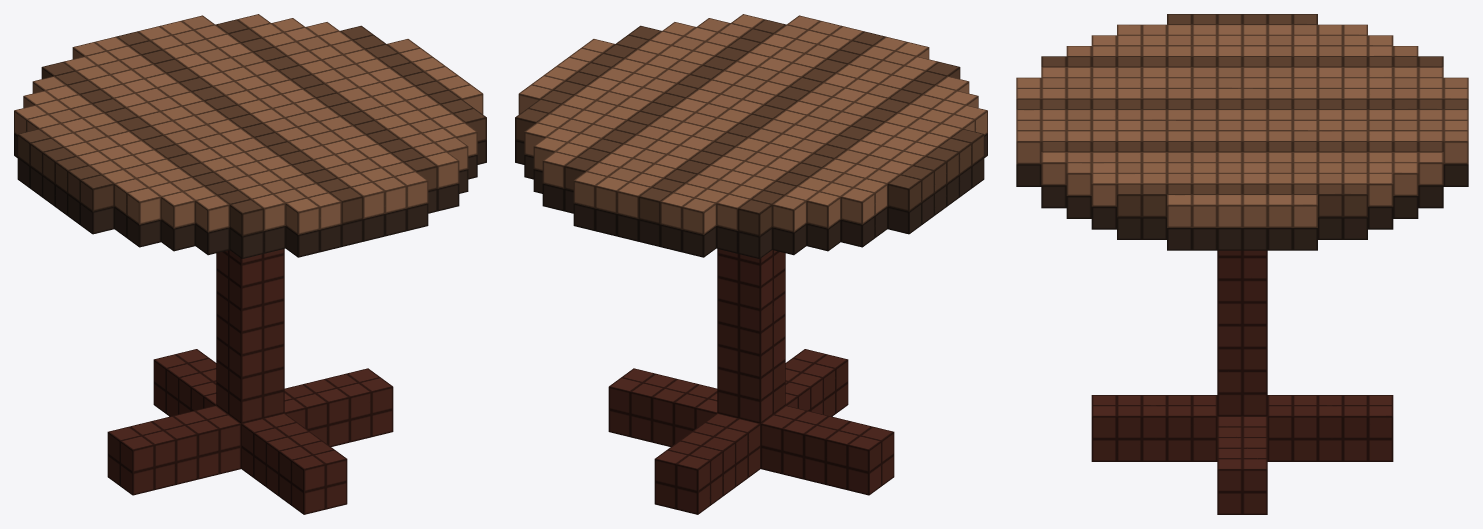
The model's file is round_table.glb.
The picture shows the model from 3 angles, left to right: view 1: azimuth 30°, elevation 25°; view 2: azimuth 150°, elevation 25°; view 3: azimuth 270°, elevation 25°; orthographic projection.
Parts seen in each view (by area): view 1: round_table; view 2: round_table; view 3: round_table.
Part boxes in pixels (box(x1,y1,x2,y2)): round_table: box(14, 14, 486, 514); round_table: box(515, 14, 987, 514); round_table: box(1016, 14, 1468, 514).
Size of the model in its own units: 0.9 by 0.75 by 0.9.
4 materials, 4 textured.
